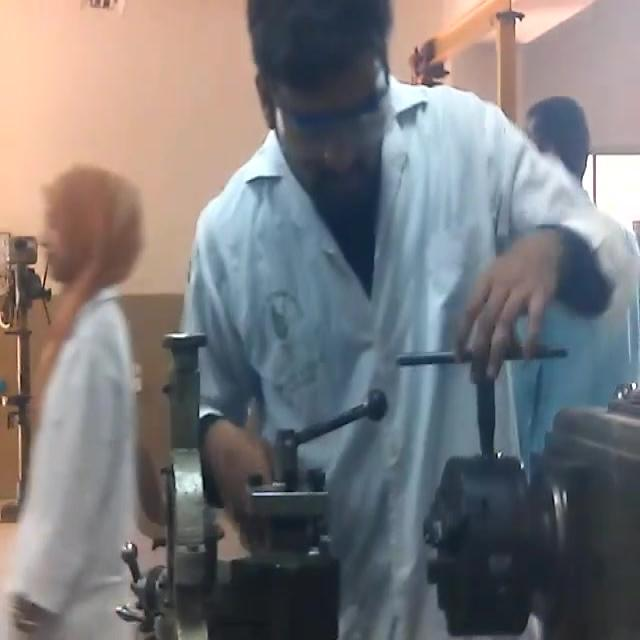googles: (268, 90, 402, 158)
labcoat: (180, 73, 631, 640), (10, 284, 147, 640)
